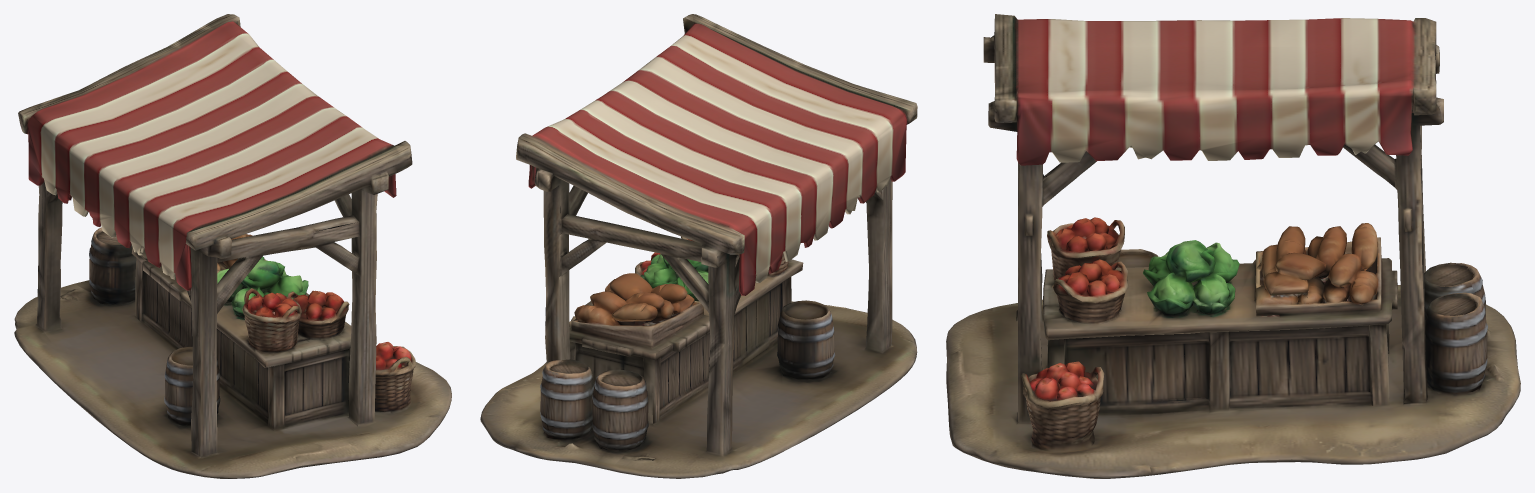
3 views of the same model, side by side, from view 1: azimuth 30°, elevation 25°; view 2: azimuth 150°, elevation 25°; view 3: azimuth 270°, elevation 25° (orthographic). The views are drawn at different scales.
Visible parts, largest first — view 1: repaired; view 2: repaired; view 3: repaired.
Part boxes in pixels (left/top/right/bottom): repaired: left=14, top=14, right=451, bottom=478; repaired: left=480, top=14, right=917, bottom=478; repaired: left=946, top=14, right=1520, bottom=478.
Bounding box in the file's own units: 0.7554 × 0.6979 × 0.9991.
1 material, 1 textured.
